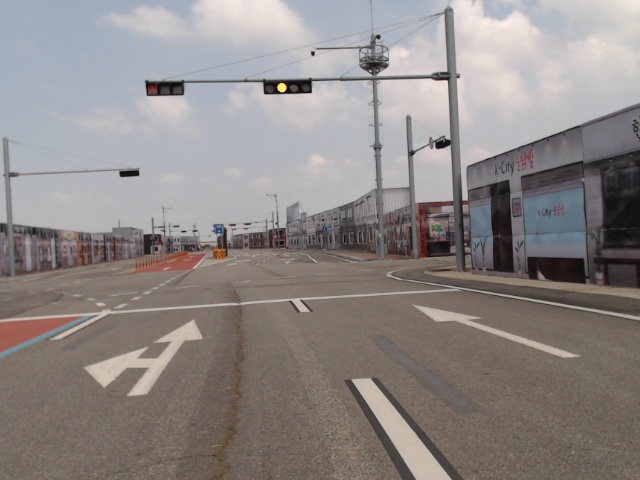orange_4: (262, 79, 313, 95)
